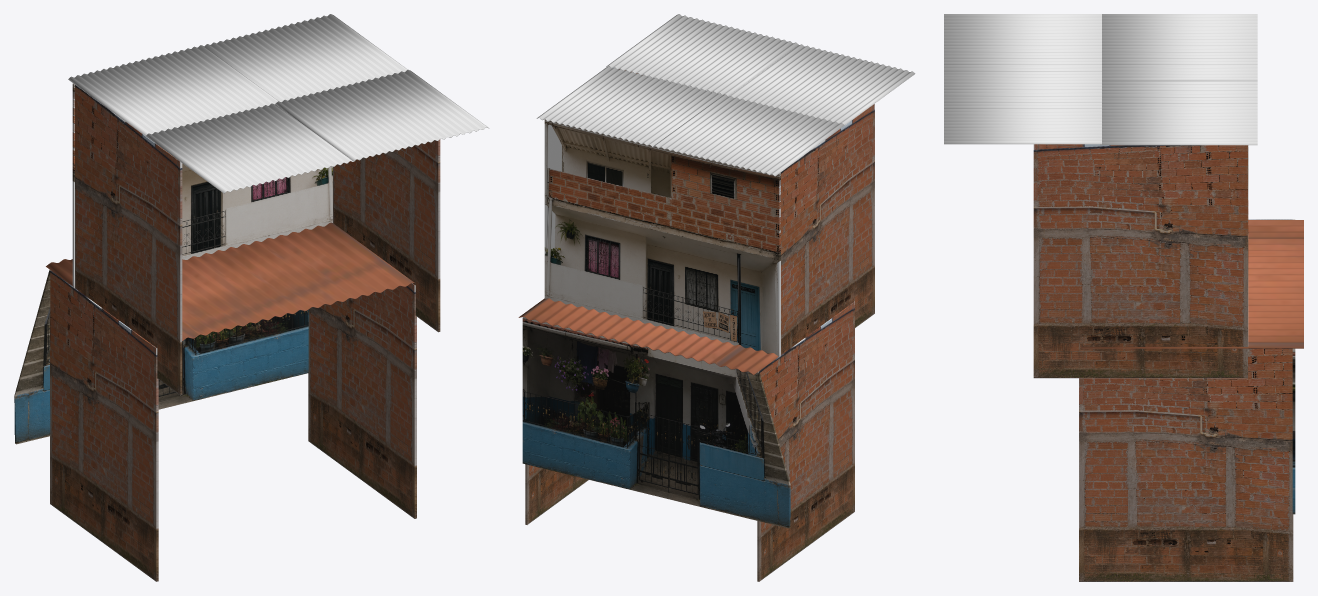
The model's file is casa_izquierda_08.fbx.
The picture shows the model from 3 angles, left to right: view 1: azimuth 30°, elevation 25°; view 2: azimuth 150°, elevation 25°; view 3: azimuth 270°, elevation 25°; orthographic projection. The views are drawn at different scales.
Parts seen in each view (by area): view 1: Techo_08.001, casa_izquierda_05A.005, casa_izquierda_05A.004, casa_izquierda_05A.003, Techo_08, casa_izquierda_05A.002, casa_izquierda_08A, casa_izquierda_08B.001; view 2: casa_izquierda_08B.001, casa_izquierda_08A, Techo_08.001, casa_izquierda_05A.004, casa_izquierda_05A.005, Techo_08, casa_izquierda_05A.003; view 3: casa_izquierda_05A.002, casa_izquierda_05A.003, Techo_08.001, Techo_08, casa_izquierda_08A.
Boxes of the visible parts, box(x1,y1,x2,y2) form: Techo_08.001: box(68, 14, 489, 193); casa_izquierda_05A.005: box(50, 270, 158, 581); casa_izquierda_05A.004: box(75, 85, 182, 395); casa_izquierda_05A.003: box(308, 283, 416, 518); Techo_08: box(46, 222, 414, 346); casa_izquierda_05A.002: box(333, 139, 440, 332); casa_izquierda_08A: box(14, 269, 308, 444); casa_izquierda_08B.001: box(72, 83, 332, 288); casa_izquierda_08B.001: box(544, 119, 780, 356); casa_izquierda_08A: box(522, 317, 790, 528); Techo_08.001: box(536, 14, 915, 176); casa_izquierda_05A.004: box(780, 104, 874, 354); casa_izquierda_05A.005: box(757, 301, 854, 581); Techo_08: box(518, 298, 852, 374); casa_izquierda_05A.003: box(525, 464, 588, 524); casa_izquierda_05A.002: box(1033, 144, 1247, 378); casa_izquierda_05A.003: box(1079, 348, 1293, 581); Techo_08.001: box(944, 14, 1257, 145); Techo_08: box(1081, 220, 1303, 348); casa_izquierda_08A: box(1292, 219, 1295, 514).
Bounding box in the file's own units: 1004 × 1405 × 1036.
